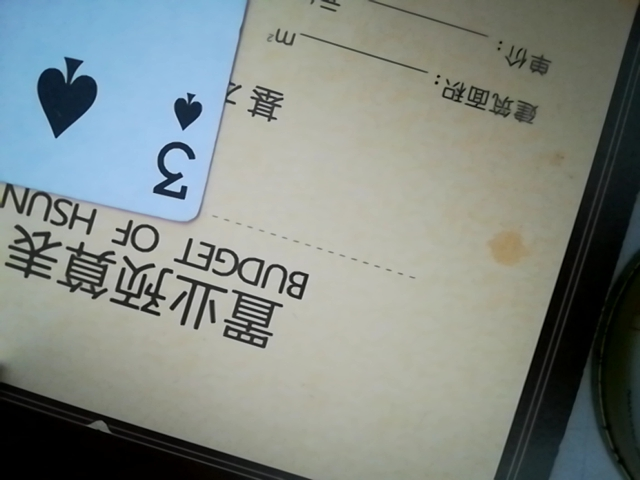ht 3: (1, 0, 289, 228)
